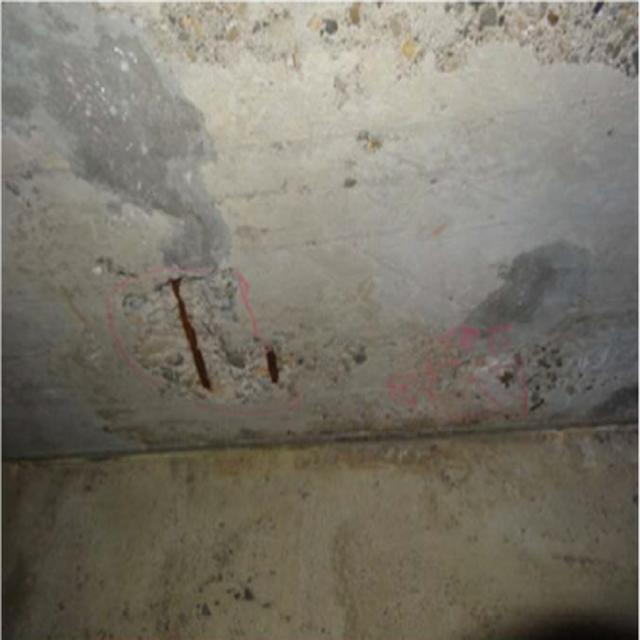spalling: (139, 4, 630, 86), (115, 263, 298, 433), (437, 320, 626, 431)
